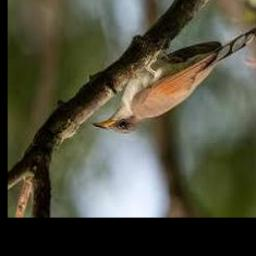Cuckoo: (92, 28, 256, 134)
